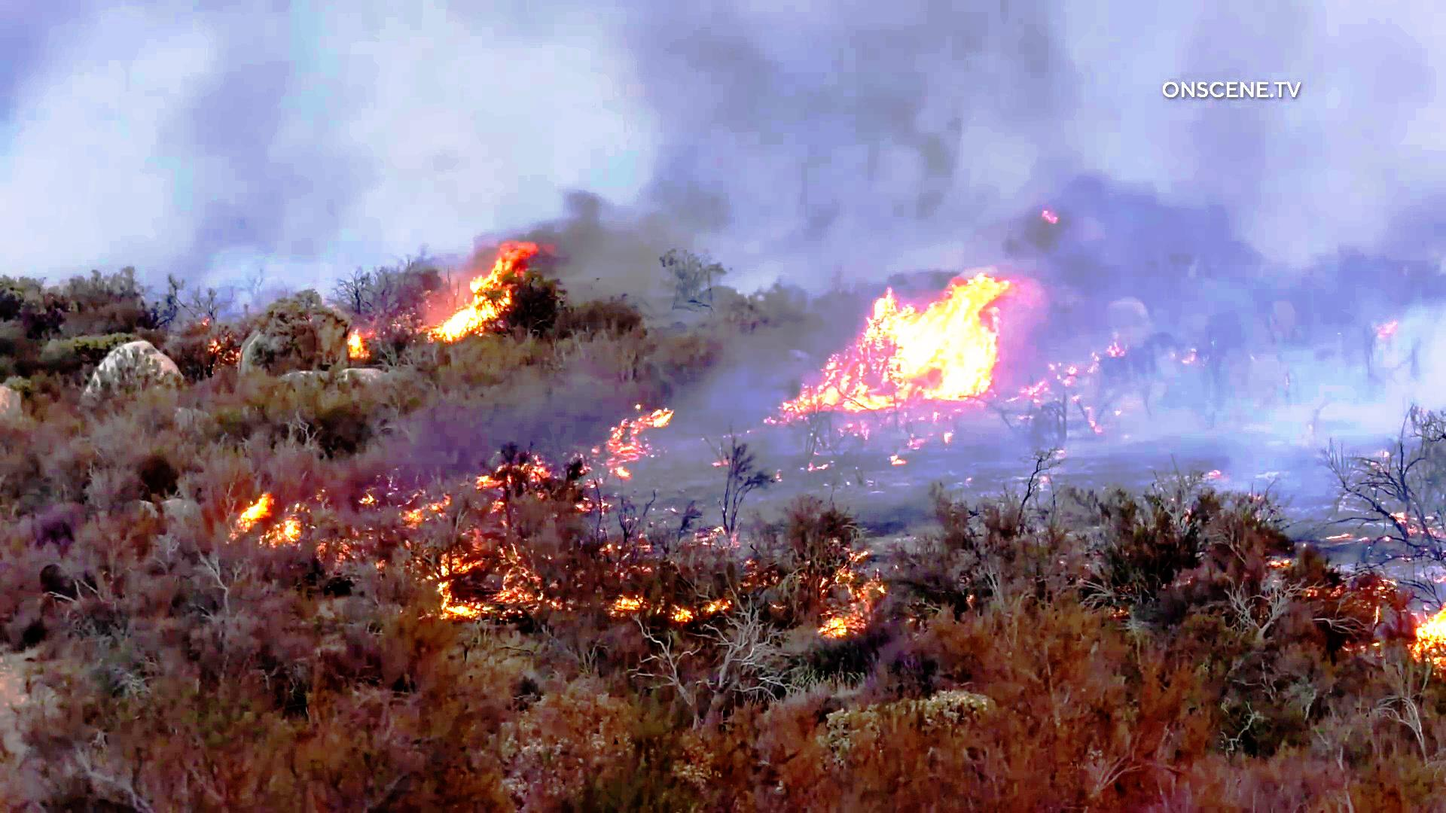fire: (837, 275, 994, 399), (427, 249, 537, 336)
smoke: (524, 57, 661, 282)
